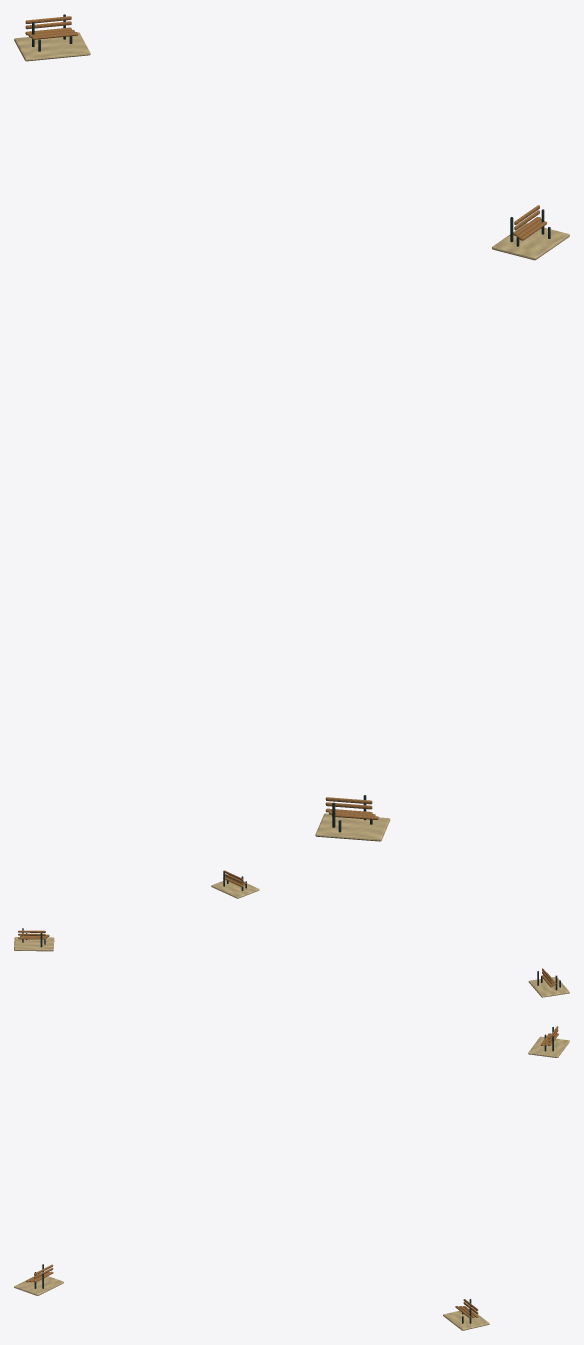
Rendered from Lookout_Furniture.fbx.
The picture shows the model from 3 angles, top to bottom: view 1: azimuth 30°, elevation 25°; view 2: azimuth 150°, elevation 25°; view 3: azimuth 270°, elevation 25°; orthographic projection. The views are drawn at different scales.
Visible parts, largest first — view 1: Lookout_Furniture; view 2: Lookout_Furniture; view 3: Lookout_Furniture.
Boxes of the visible parts, x1,y1,x2,y2 form: Lookout_Furniture: (14, 14, 569, 841); Lookout_Furniture: (14, 870, 569, 997); Lookout_Furniture: (14, 1026, 569, 1330).
Bounding box in the file's own units: 3070 × 4033 × 2314.
